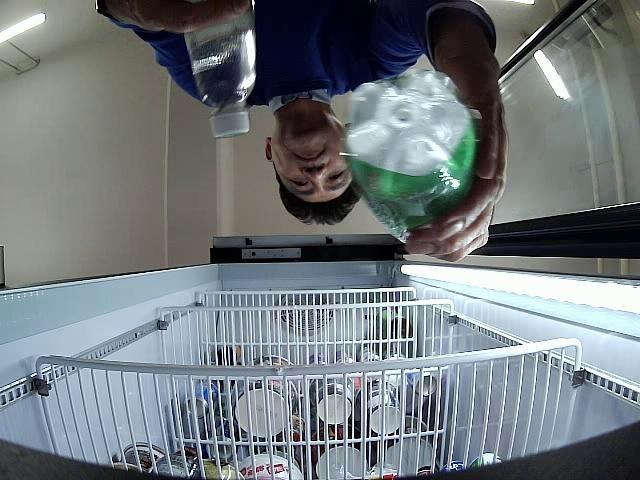18_trevi: (347, 72, 482, 244), (185, 12, 256, 140)
